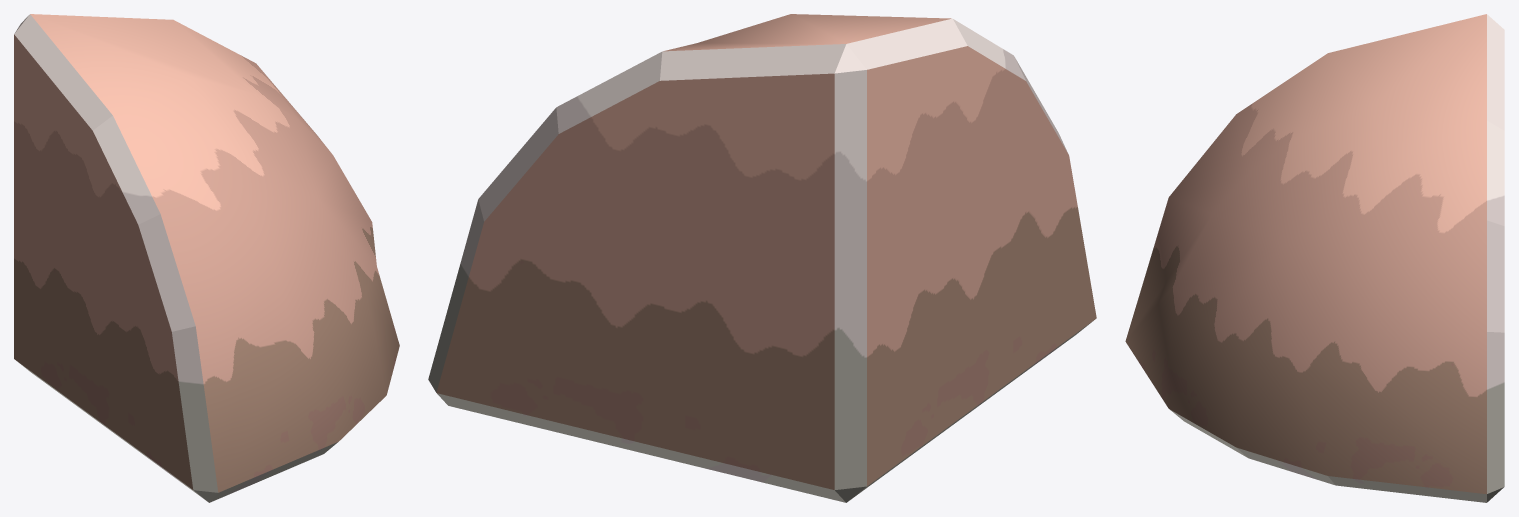
Rendered from R4B_RoundCorner_LOD1.glb.
3 renders of one model, left to right at view 1: azimuth 30°, elevation 25°; view 2: azimuth 150°, elevation 25°; view 3: azimuth 270°, elevation 25°, orthographic. The views are drawn at different scales.
Parts seen in each view (by area): view 1: R4B_RoundCorner_LOD1; view 2: R4B_RoundCorner_LOD1; view 3: R4B_RoundCorner_LOD1.
Part boxes in pixels (left/top/right/bottom): R4B_RoundCorner_LOD1: left=14, top=14, right=399, bottom=502; R4B_RoundCorner_LOD1: left=428, top=14, right=1096, bottom=502; R4B_RoundCorner_LOD1: left=1125, top=14, right=1504, bottom=502.
Size of the model in its own units: 0.5139 by 0.5139 by 0.5139.
Materials: 2 (2 with a texture image).
